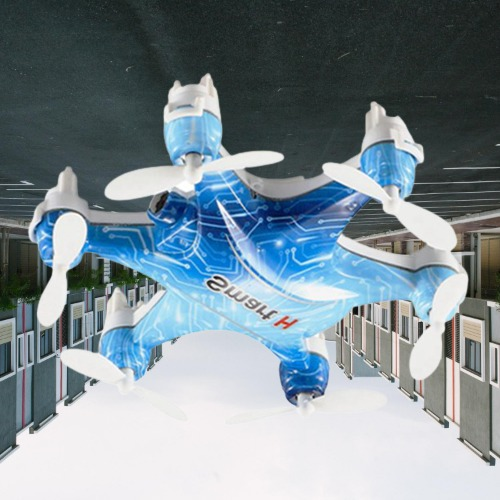drone: (27, 74, 468, 419)
